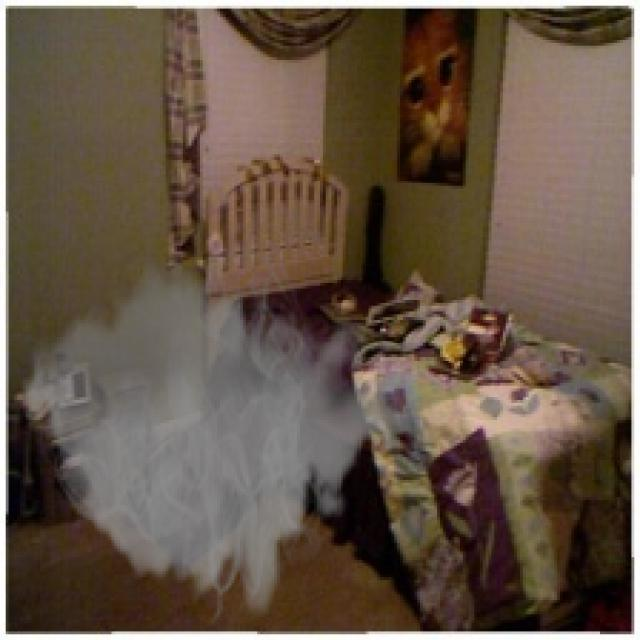Smoke: (20, 228, 406, 632)
